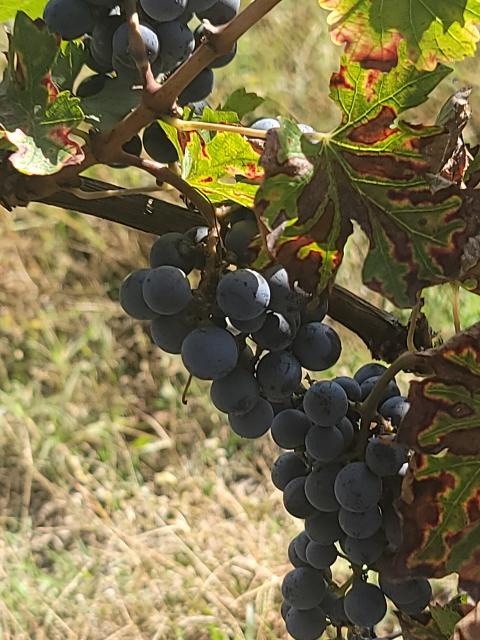grapes: (119, 209, 340, 436), (272, 364, 431, 640), (42, 0, 142, 86), (132, 0, 240, 79)
